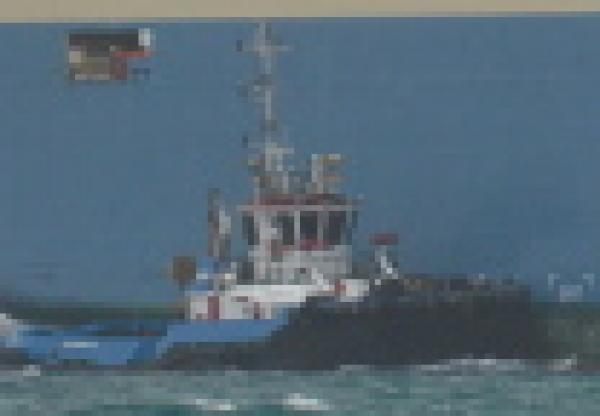Tug: (0, 5, 600, 416)
